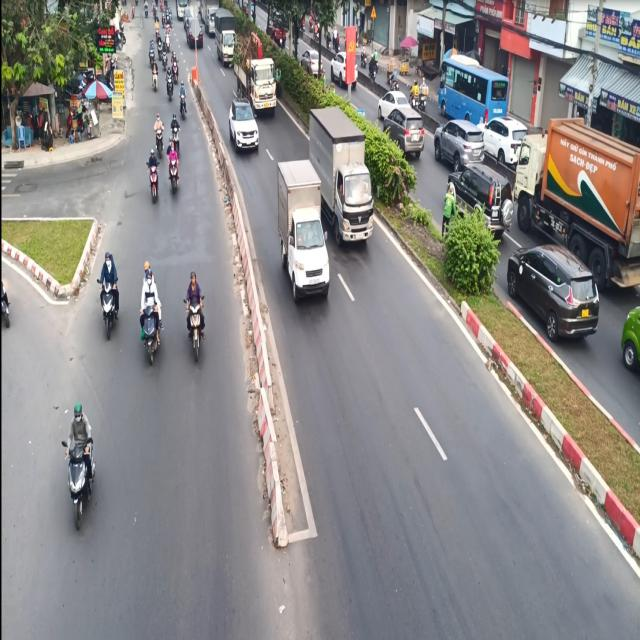car: (230, 92, 261, 162)
motorbike: (57, 398, 101, 529), (137, 255, 167, 366), (180, 259, 210, 369), (99, 250, 122, 350), (145, 146, 164, 209)
truck: (309, 98, 383, 251), (273, 153, 331, 313)
